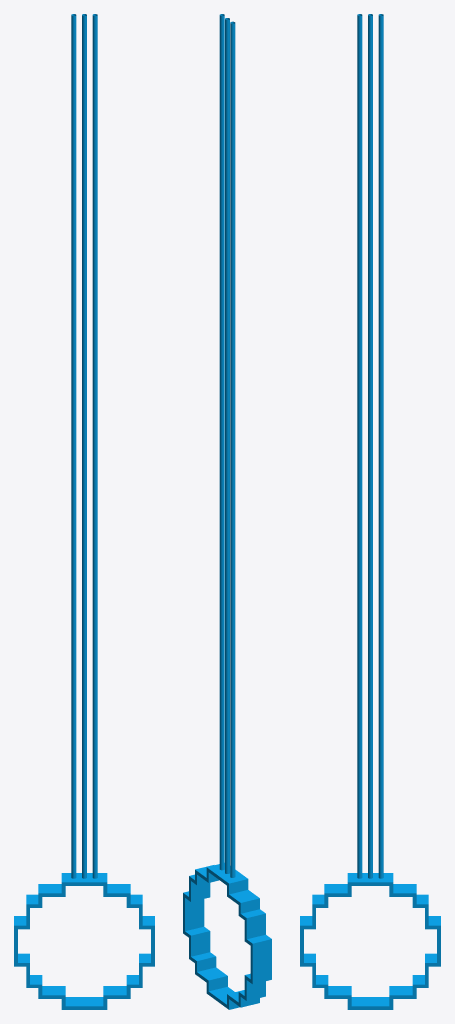
The model's file is cutter4_pixel.fbx.
3 views of the same model, side by side, from view 1: azimuth 90°, elevation 25°; view 2: azimuth 210°, elevation 25°; view 3: azimuth 270°, elevation 25° (orthographic).
Parts seen in each view (by area): view 1: Cutter4_Pixel; view 2: Cutter4_Pixel; view 3: Cutter4_Pixel.
Part boxes in pixels (x1=…): Cutter4_Pixel: x1=14, y1=14, x2=154, y2=1009; Cutter4_Pixel: x1=183, y1=14, x2=271, y2=1009; Cutter4_Pixel: x1=300, y1=14, x2=440, y2=1009.
Bounding box in the file's own units: 16.87 × 823 × 106.
